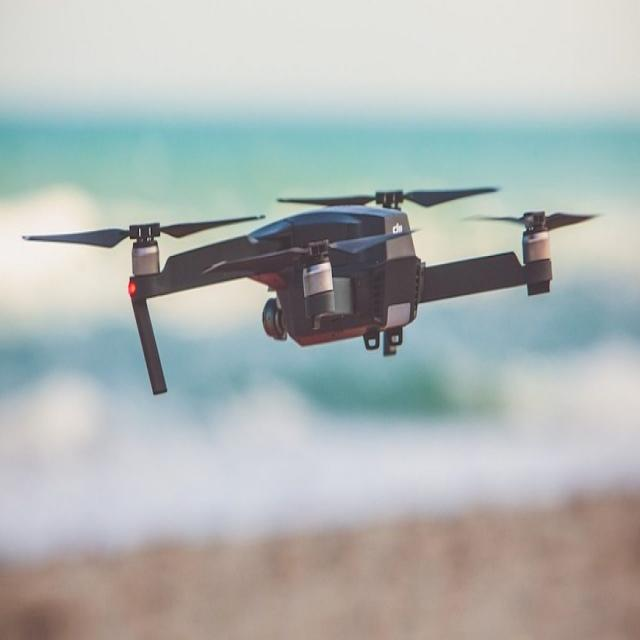drones: (13, 182, 607, 400)
